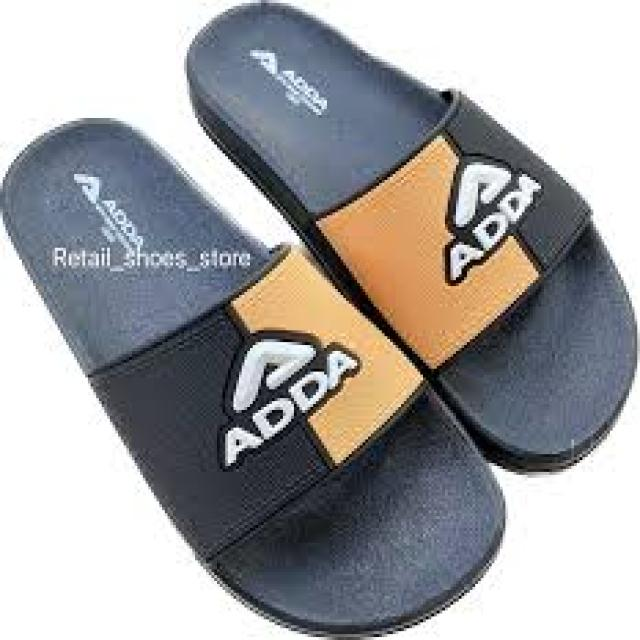shoe: (2, 1, 640, 639), (3, 118, 511, 628), (181, 0, 640, 467)
